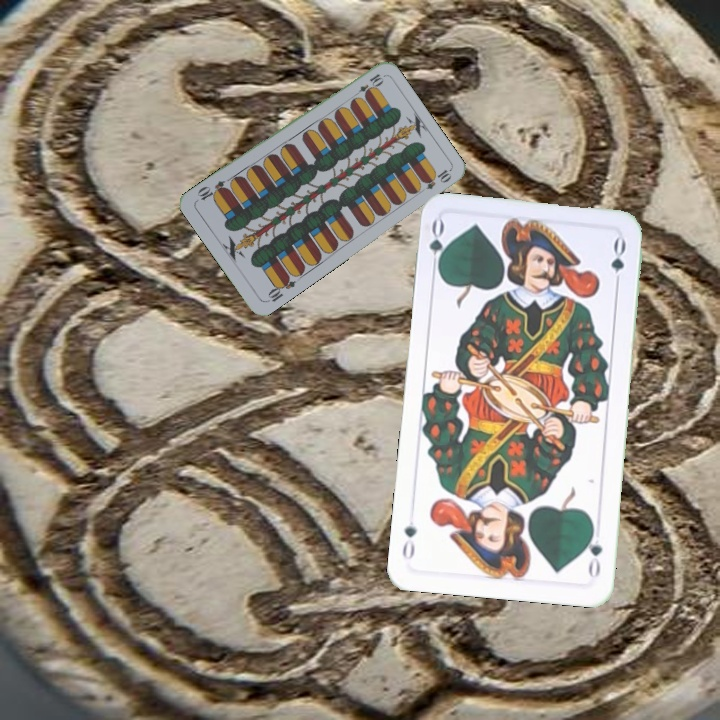E10: (262, 272, 298, 305), (349, 70, 386, 101)
GO: (425, 216, 451, 276), (582, 522, 605, 581)
